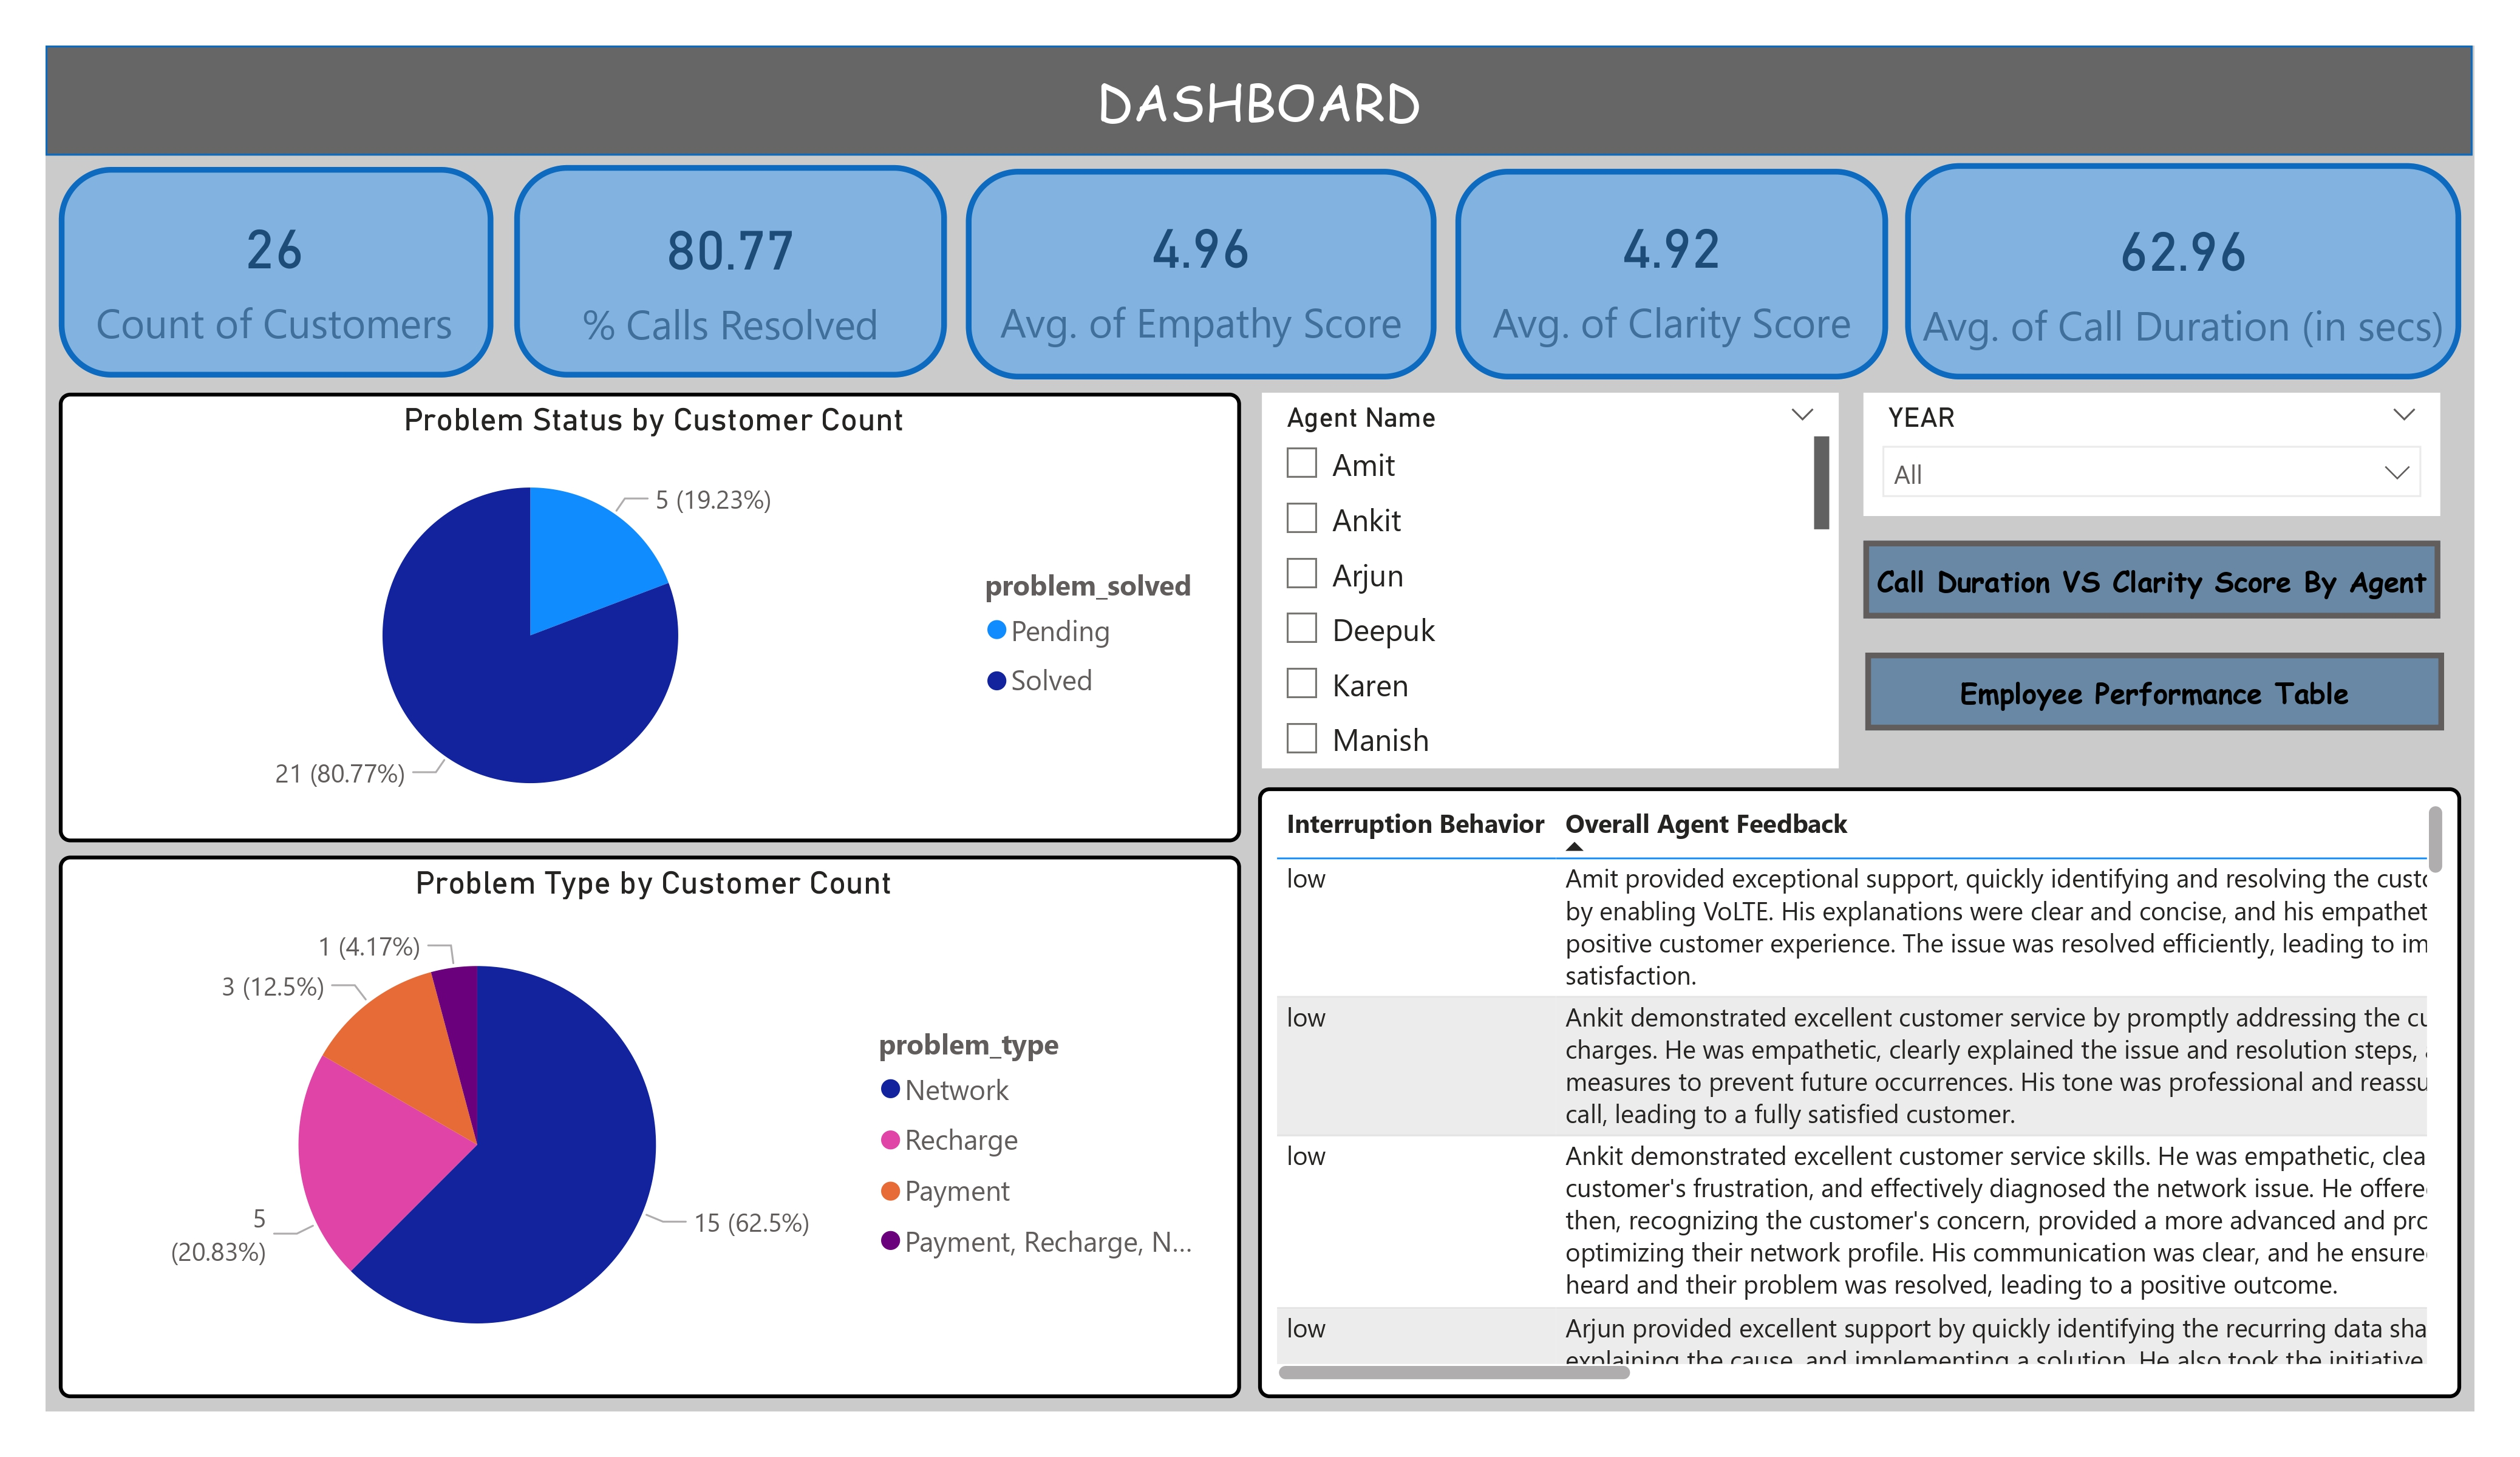

This screenshot's page, from the dashboard's own definition file:
{"tool":"powerbi","page":{"name":"Page 1","canvas":[1280,720],"ordinal":0},"visuals":[{"type":"card","fields":{"Values":["tbl_customer_call_analysis.customer_id"]},"box":[19.2,77.9,202.5,83.9],"z":0},{"type":"shape","box":[7.2,63.5,228.9,111.5],"z":1000},{"type":"pieChart","title":"Problem Type by Customer Count","fields":{"Category":["tbl_customer_call_analysis.problem_type"],"Y":["tbl_customer_call_analysis.customer_id"]},"box":[7.2,427.1,623.3,285.7],"z":2000},{"type":"pieChart","title":"Problem Status by Customer Count","fields":{"Category":["tbl_customer_call_analysis.problem_solved"],"Y":["tbl_customer_call_analysis.customer_id"]},"box":[7.2,183.2,623.3,236.6],"z":3000},{"type":"shape","box":[0,0,1278.8,57.5],"z":4000},{"type":"card","fields":{"Values":["tbl_employee_performance.empathy_score"]},"box":[484.8,72.1,248.2,95.2],"z":5000},{"type":"shape","box":[484.8,64.9,248.2,111.1],"z":6000},{"type":"card","fields":{"Values":["tbl_employee_performance.clarity_score"]},"box":[743,72.1,228,95.2],"z":7000},{"type":"shape","box":[743,64.9,228,111.1],"z":8000},{"type":"card","fields":{"Values":["tbl_employee_performance.call_duration_seconds"]},"box":[979.6,69.3,292.9,103.9],"z":9000},{"type":"shape","box":[979.6,62,292.9,114],"z":10000},{"type":"card","fields":{"Values":["tbl_customer_call_analysis.% Calls Resolved"]},"box":[275.6,73.6,170.2,93.8],"z":11000},{"type":"shape","box":[246.7,63.5,228,111.1],"z":12000},{"type":"slicer","fields":{"Values":["tbl_employee_performance.agent_name"]},"box":[640.6,183.2,304.4,197.7],"z":13000},{"type":"slicer","fields":{"Values":["tbl_customer_call_analysis.YEAR"]},"box":[958,183.2,304.4,64.9],"z":14000},{"type":"tableEx","fields":{"Values":["tbl_employee_performance.interruption_behavior","tbl_employee_performance.overall_agent_feedback","tbl_employee_performance.improvement_suggestions","tbl_employee_performance.agent_tone"]},"box":[639.1,391,633.4,321.7],"z":15000},{"type":"actionButton","box":[958,261.1,304.4,40.4],"z":16000},{"type":"actionButton","box":[959.4,320.3,304.4,40.4],"z":17000}]}

Visuals, with their boxes on the page's 1280x720 design canvas (x1, y1, x2, y2). These are canvas units, not pixel positions in the 2520x1457 screenshot, which may show the page scaled, cropped or inside an application window:
card - tbl_customer_call_analysis.customer_id: <box>19,78,222,162</box>
shape: <box>7,64,236,175</box>
"Problem Type by Customer Count" pieChart: <box>7,427,630,713</box>
"Problem Status by Customer Count" pieChart: <box>7,183,630,420</box>
shape: <box>0,0,1279,58</box>
card - tbl_employee_performance.empathy_score: <box>485,72,733,167</box>
shape: <box>485,65,733,176</box>
card - tbl_employee_performance.clarity_score: <box>743,72,971,167</box>
shape: <box>743,65,971,176</box>
card - tbl_employee_performance.call_duration_seconds: <box>980,69,1272,173</box>
shape: <box>980,62,1272,176</box>
card - tbl_customer_call_analysis.% Calls Resolved: <box>276,74,446,167</box>
shape: <box>247,64,475,175</box>
slicer - tbl_employee_performance.agent_name: <box>641,183,945,381</box>
slicer - tbl_customer_call_analysis.YEAR: <box>958,183,1262,248</box>
tableEx - tbl_employee_performance.interruption_behavior x tbl_employee_performance.overall_agent_feedback: <box>639,391,1272,713</box>
actionButton: <box>958,261,1262,302</box>
actionButton: <box>959,320,1264,361</box>
